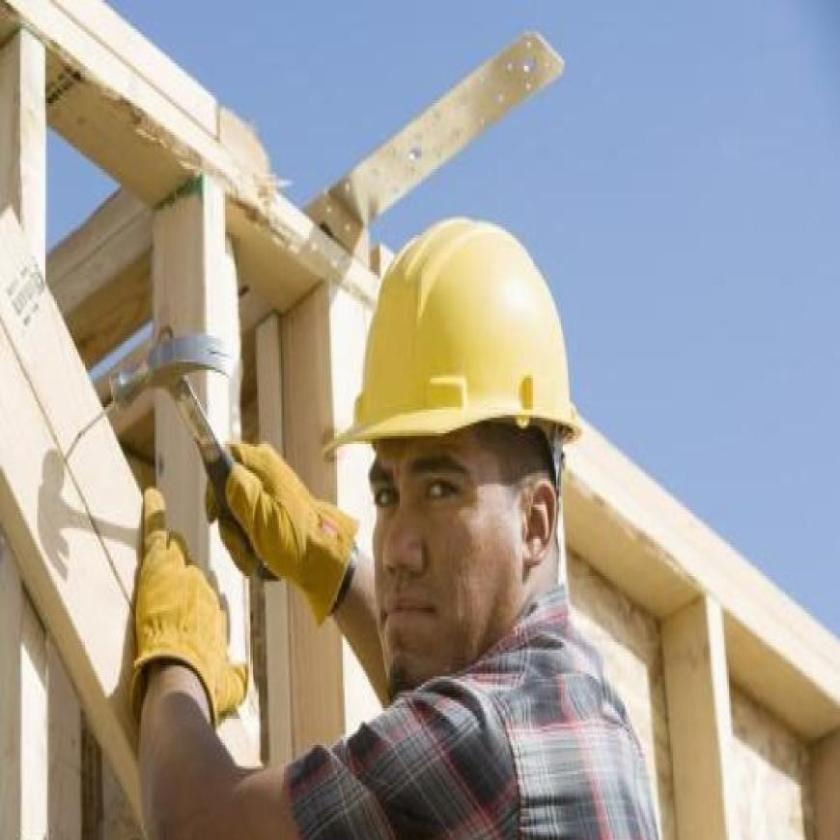Con_casco: (316, 203, 590, 703)
